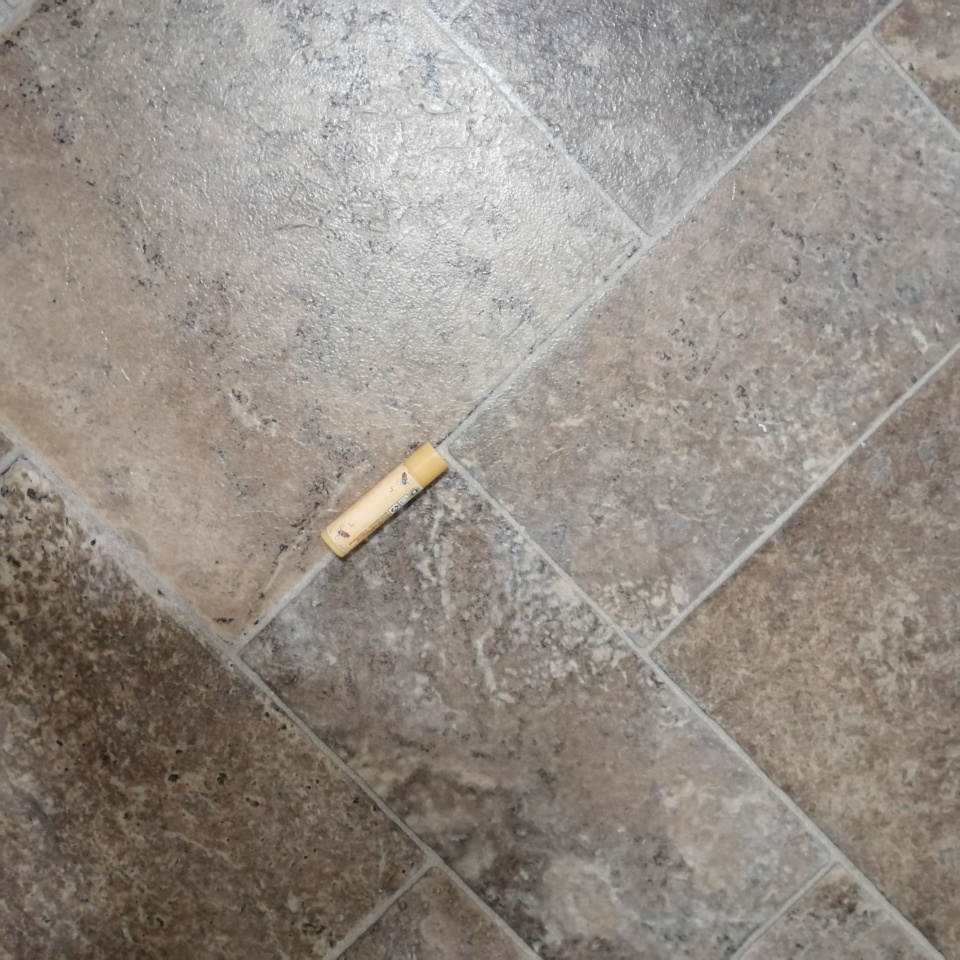chapstick: (321, 442, 448, 558)
